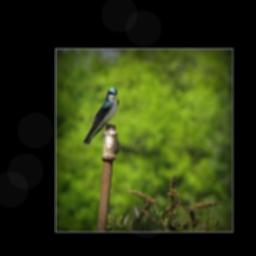Swallow: (82, 86, 119, 146)
